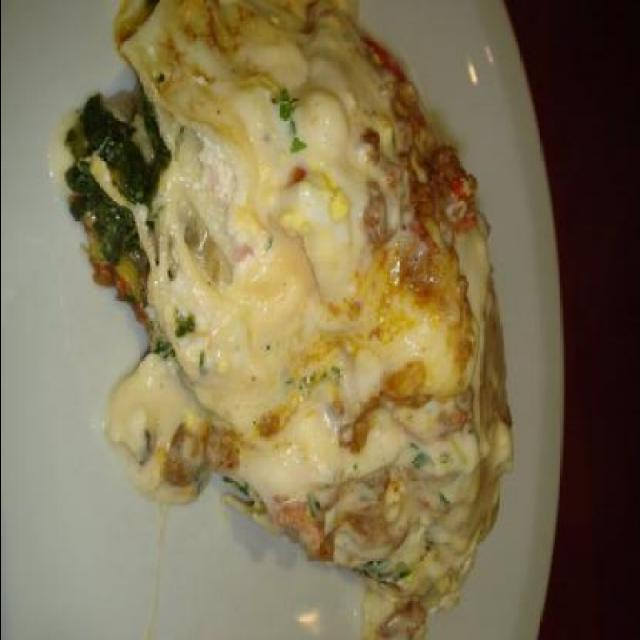Lasagna: (87, 29, 524, 588)
